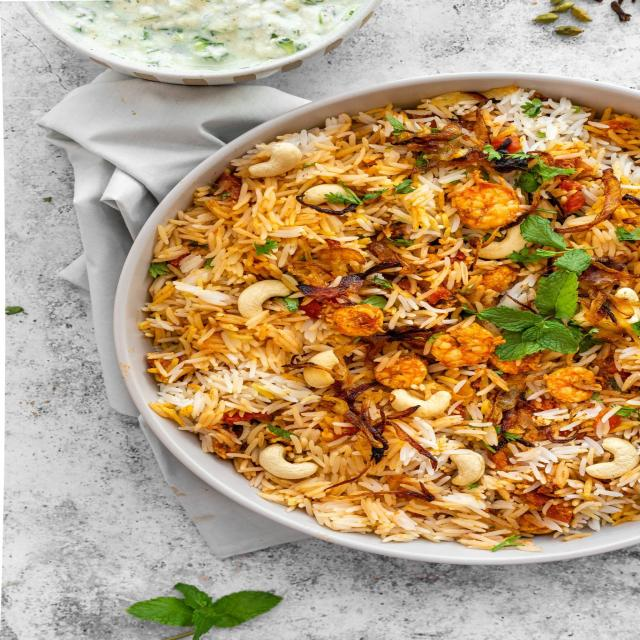chicken biryani: (225, 160, 632, 536)
